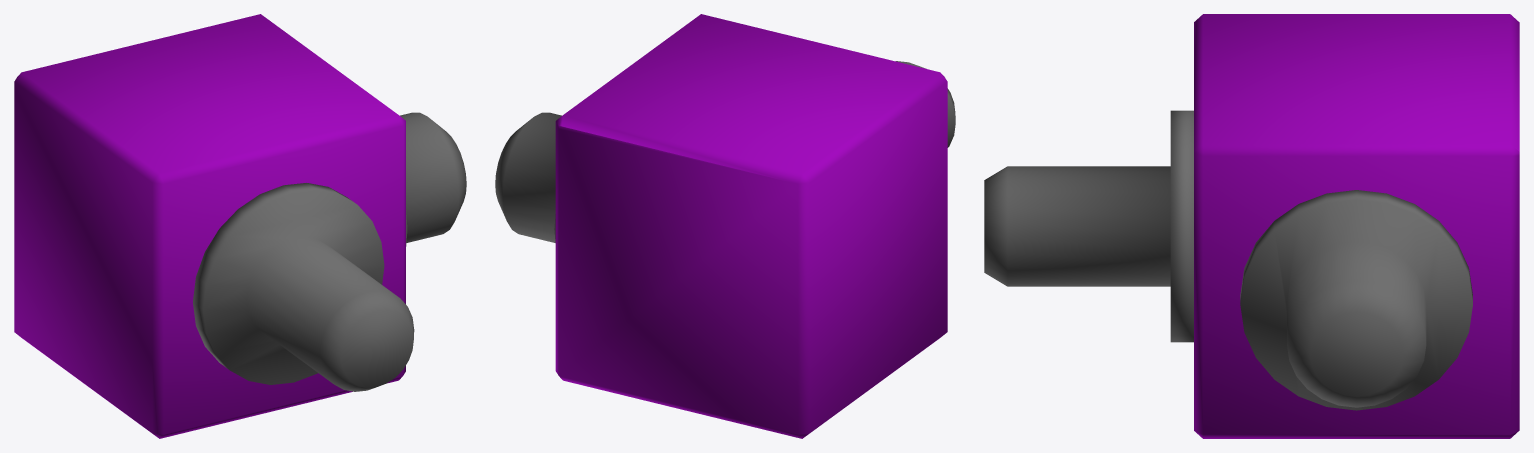
The model's file is regulator_purple.dae.
3 views of the same model, side by side, from view 1: azimuth 30°, elevation 25°; view 2: azimuth 150°, elevation 25°; view 3: azimuth 270°, elevation 25° (orthographic). The views are drawn at different scales.
Visible parts, largest first — view 1: regulator_short_peg; view 2: regulator_short_peg; view 3: regulator_short_peg.
Boxes of the visible parts, box(x1,y1,x2,y2) form: regulator_short_peg: box(14, 14, 466, 438); regulator_short_peg: box(495, 14, 955, 438); regulator_short_peg: box(984, 14, 1519, 438).
Bounding box in the file's own units: 0.1 × 0.115 × 0.07.
